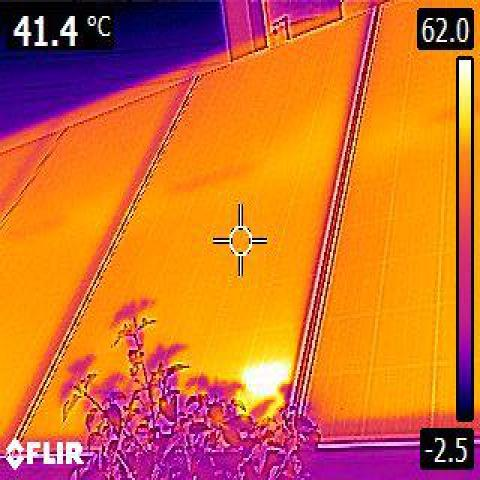fault: (242, 367, 288, 407)
